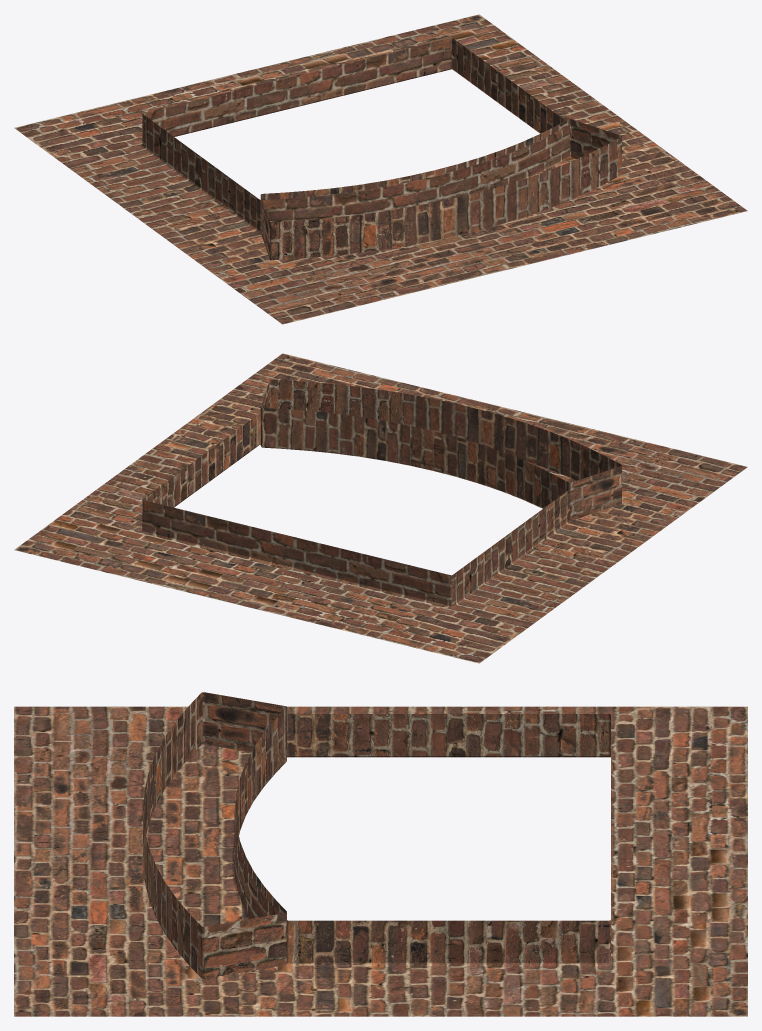
File: wall_window_centered_large_02.gltf
The picture shows the model from 3 angles, top to bottom: view 1: azimuth 30°, elevation 25°; view 2: azimuth 150°, elevation 25°; view 3: azimuth 270°, elevation 25°; orthographic projection. The views are drawn at different scales.
Parts seen in each view (by area): view 1: wall_window_centered_large_02; view 2: wall_window_centered_large_02; view 3: wall_window_centered_large_02.
Boxes of the visible parts, box(x1,y1,x2,y2) form: wall_window_centered_large_02: box(14, 14, 747, 324); wall_window_centered_large_02: box(14, 353, 747, 663); wall_window_centered_large_02: box(14, 692, 747, 1016).
Bounding box in the file's own units: 3 × 0.25 × 3.
1 material, 1 textured.
